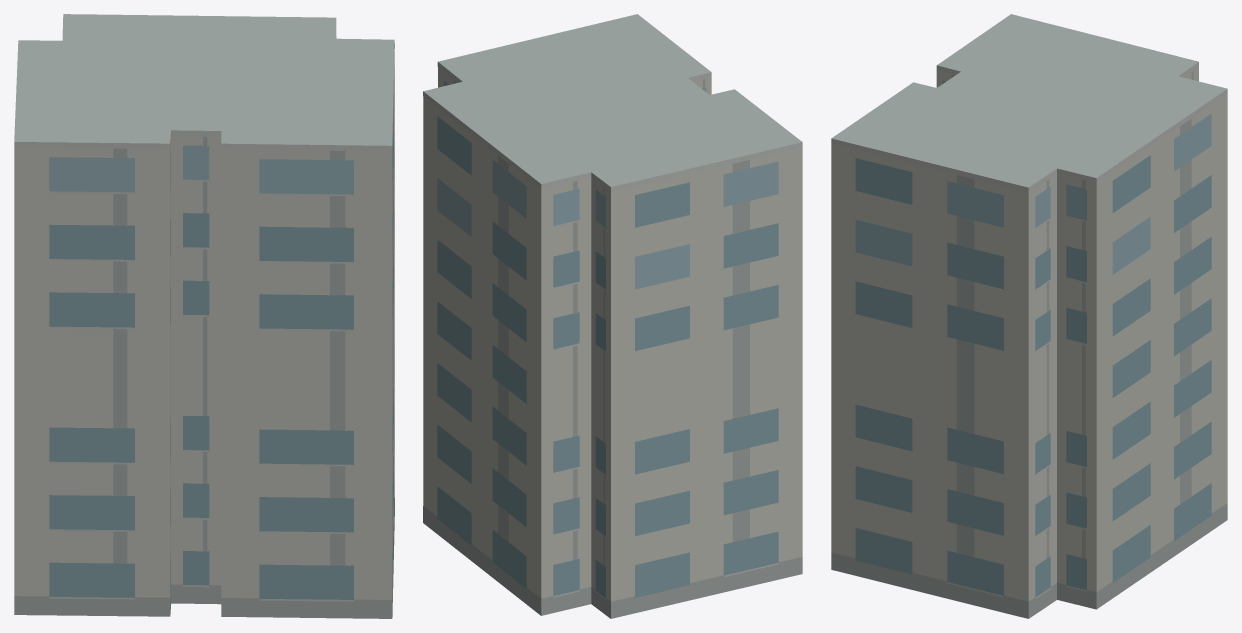
The model's file is survey-upis-32664258.glb.
The picture shows the model from 3 angles, left to right: view 1: azimuth 30°, elevation 25°; view 2: azimuth 150°, elevation 25°; view 3: azimuth 270°, elevation 25°; orthographic projection. The views are drawn at different scales.
Visible parts, largest first — view 1: survey-upis-32664258.tmp; view 2: survey-upis-32664258.tmp; view 3: survey-upis-32664258.tmp.
Boxes of the visible parts, box(x1,y1,x2,y2) form: survey-upis-32664258.tmp: box(14, 14, 394, 618); survey-upis-32664258.tmp: box(423, 14, 802, 618); survey-upis-32664258.tmp: box(831, 14, 1227, 618).
Bounding box in the file's own units: 17.4 × 20.15 × 16.79.
